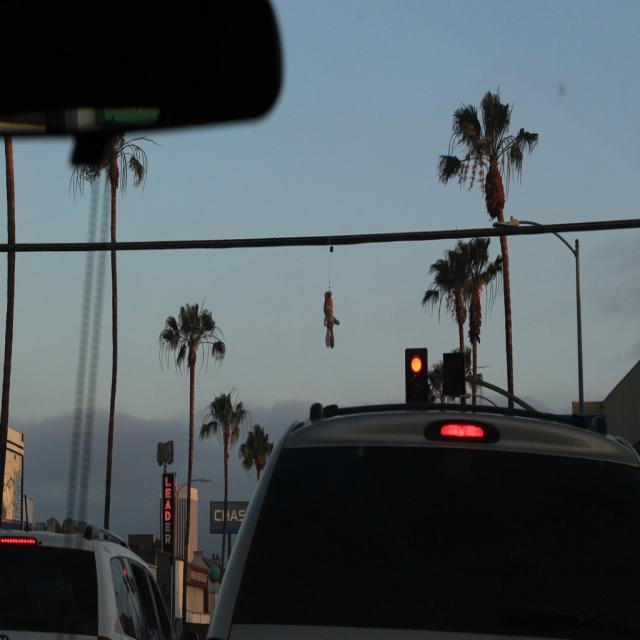traffic light: (405, 347, 427, 404)
